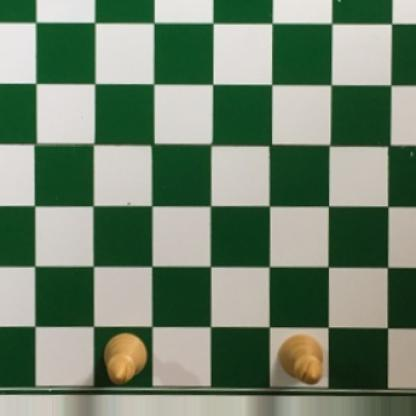white-bishop: (102, 331, 149, 388), (276, 332, 322, 388)
